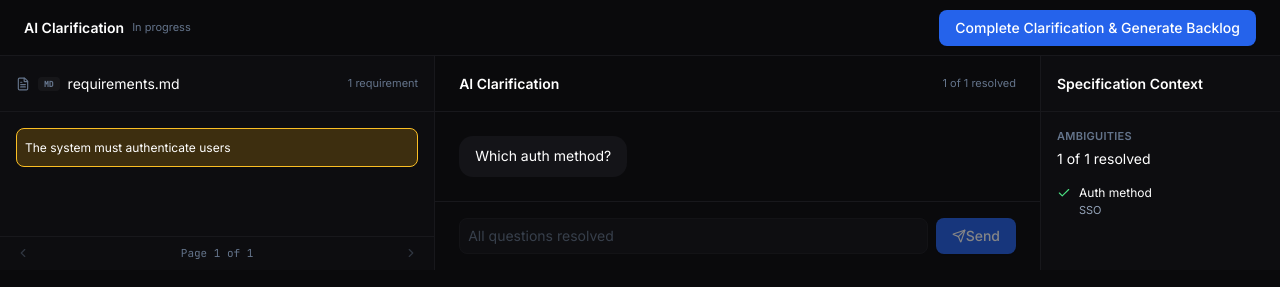
Scenario: ClarifyPage — Complete Clarification CTA › saves the context and hands off to the backlog on success
This screenshot has width=1280, height=287.
Click the button "Complete Clarification & Generate Backlog".
click(1098, 28)  # box x1=939 y1=10 x2=1256 y2=46
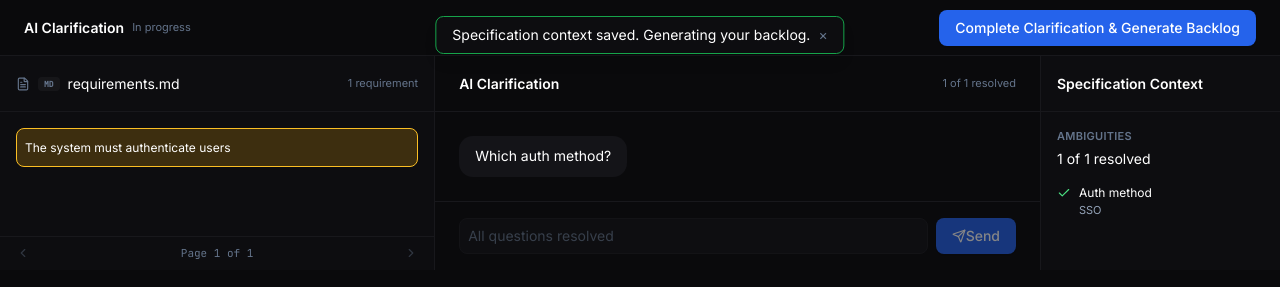
Check: the text "Specification context saved. Generating your backlog." is shown, box x1=452 y1=25 x2=810 y2=45
